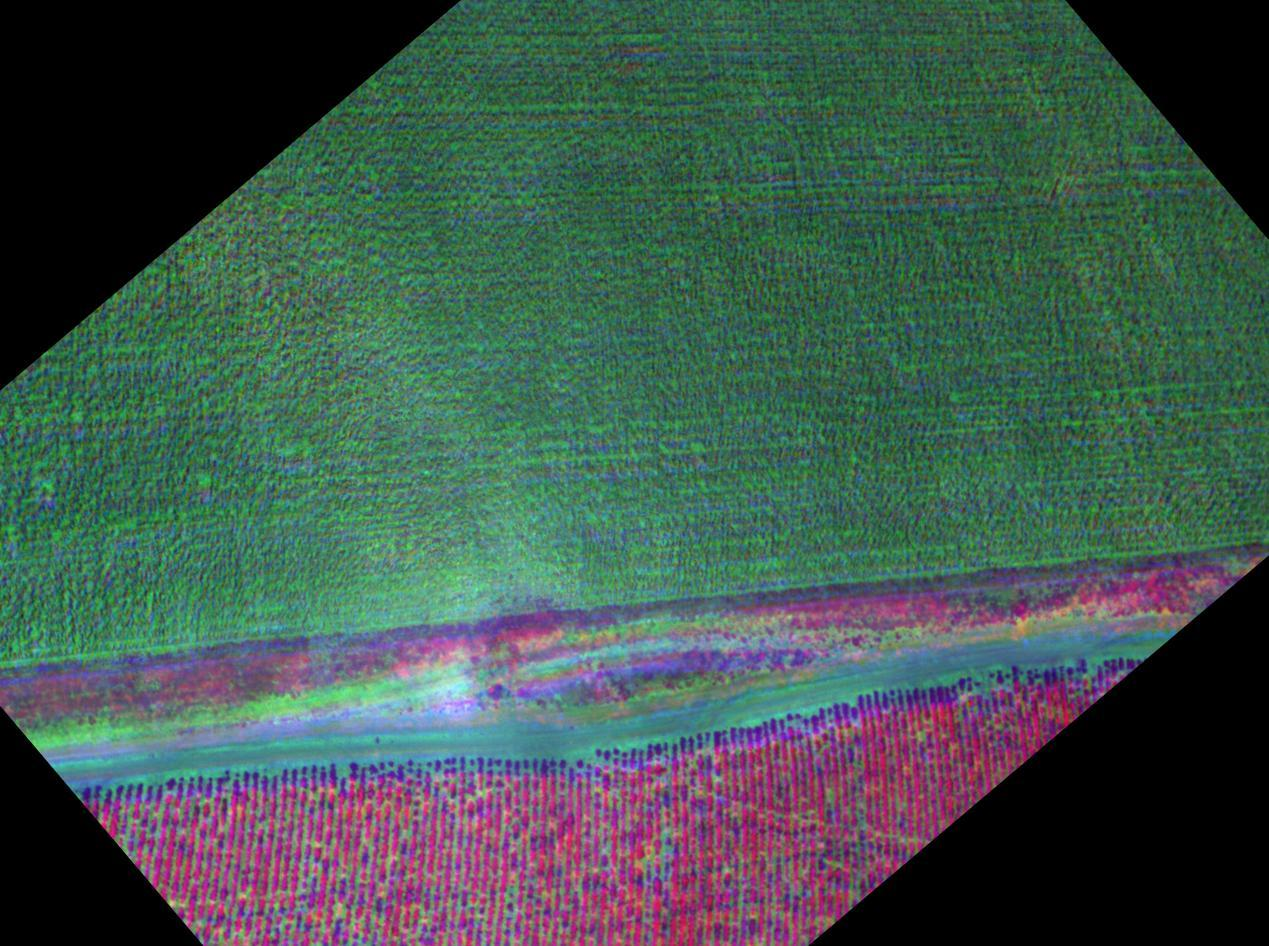dc: (596, 800, 690, 877), (293, 850, 370, 931), (433, 880, 524, 935), (213, 878, 276, 946)
